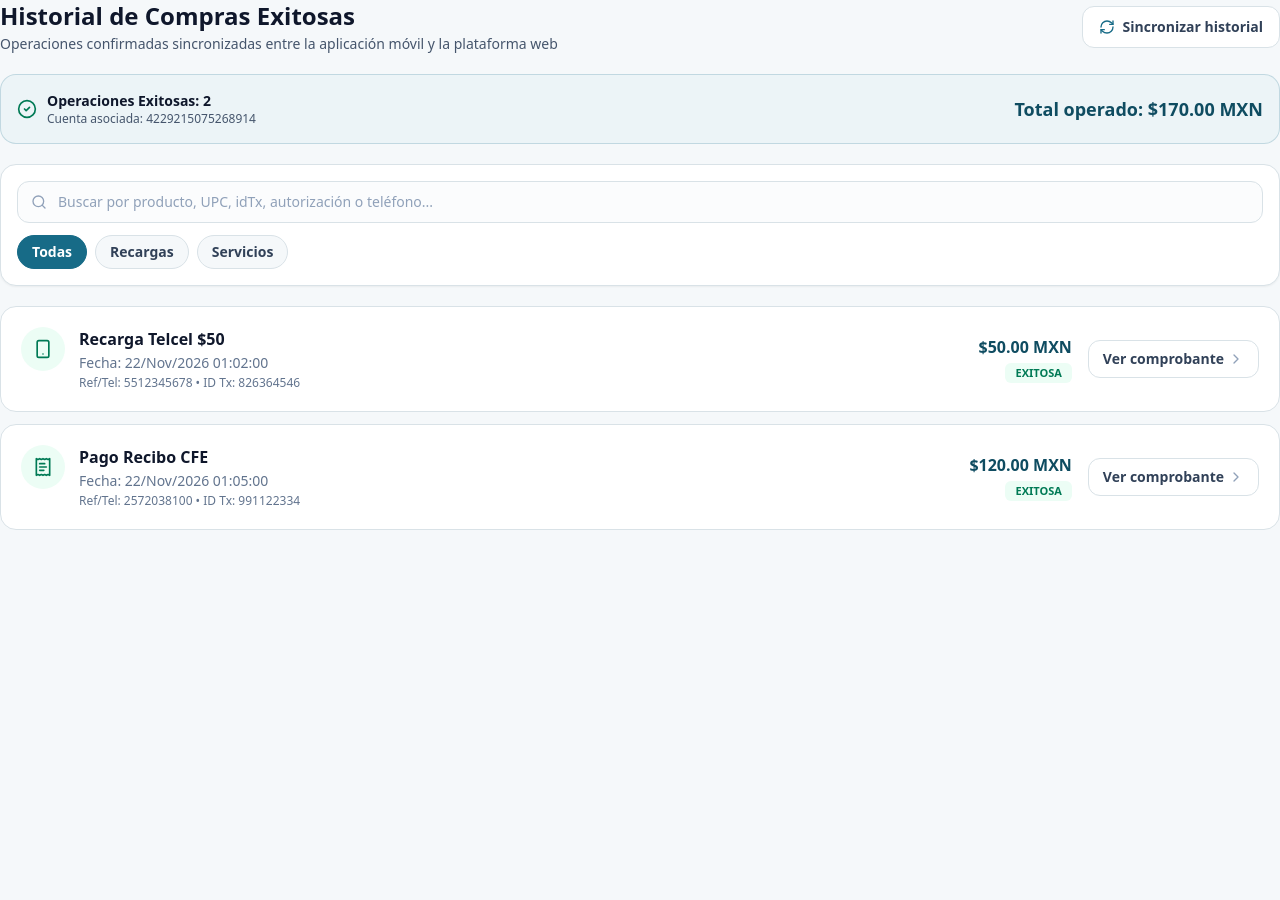
Test case: Fase 5: Historial de Compras Exitosas y Detalle por UPC › HistoryPage muestra resumen, filtra por busqueda/tipo y verifica detalle por UPC en servidor
Expected: the text "Operaciones Exitosas: 2" is shown, [47, 91, 211, 110]
Expected: the text "Total operado: $170.00 MXN" is shown, [1014, 95, 1263, 123]
Click the button "Servicios": (243, 252) [197, 235, 288, 269]
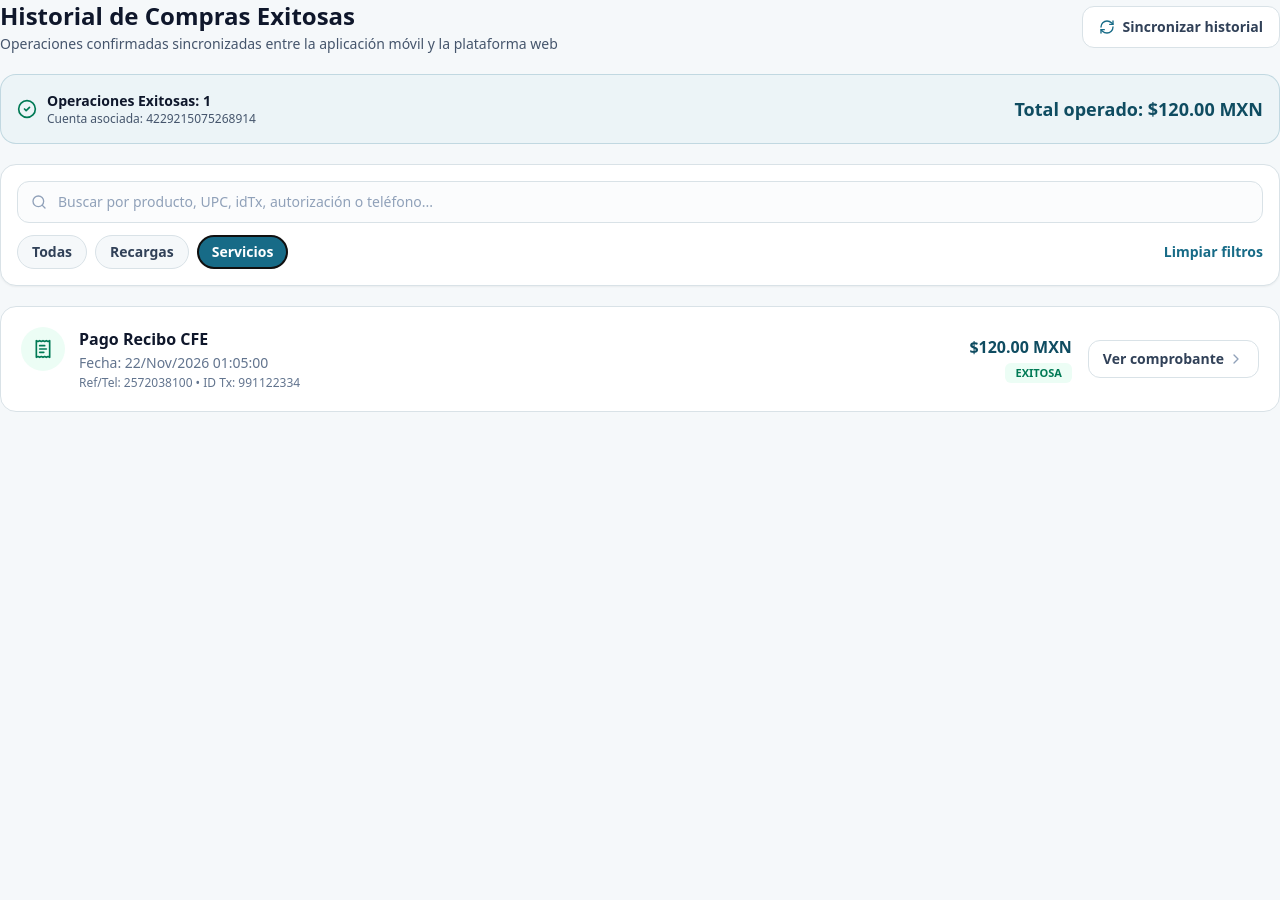
Expected: the heading "Recarga Telcel $50" is gone
Expected: the text "Operaciones Exitosas: 1" is shown, [47, 91, 211, 110]
Expected: the text "Total operado: $120.00 MXN" is shown, [1014, 95, 1263, 123]
Click the button "Todas": (52, 252) [17, 235, 87, 269]
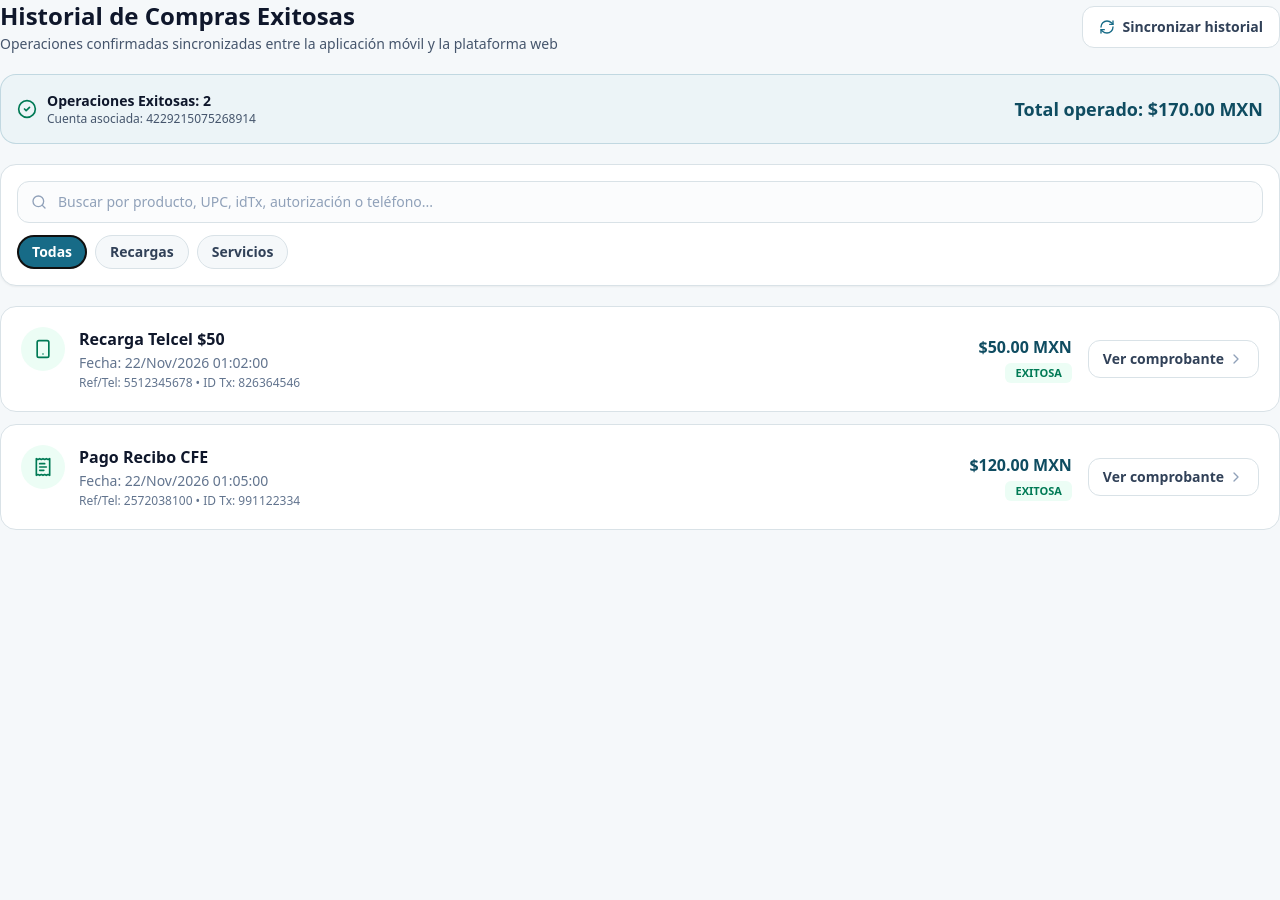
In the field named "Buscar en historial": (640, 202) [17, 181, 1263, 223], type "826364546"
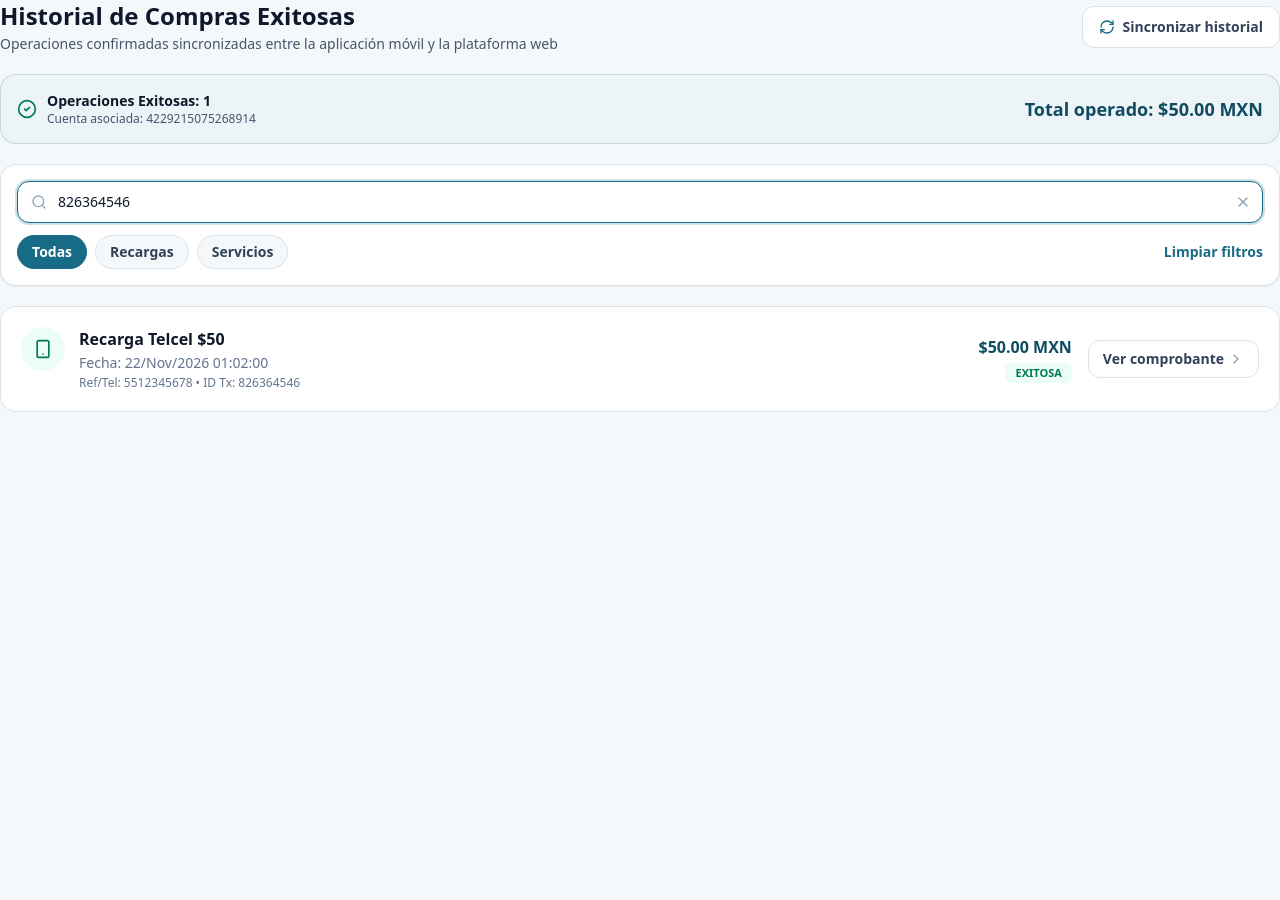
Expected: the heading "Recarga Telcel $50" is shown, [79, 328, 225, 350]
Expected: the heading "Pago Recibo CFE" is gone
Click the button "Ver comprobante": (1173, 359) [1088, 340, 1259, 378]
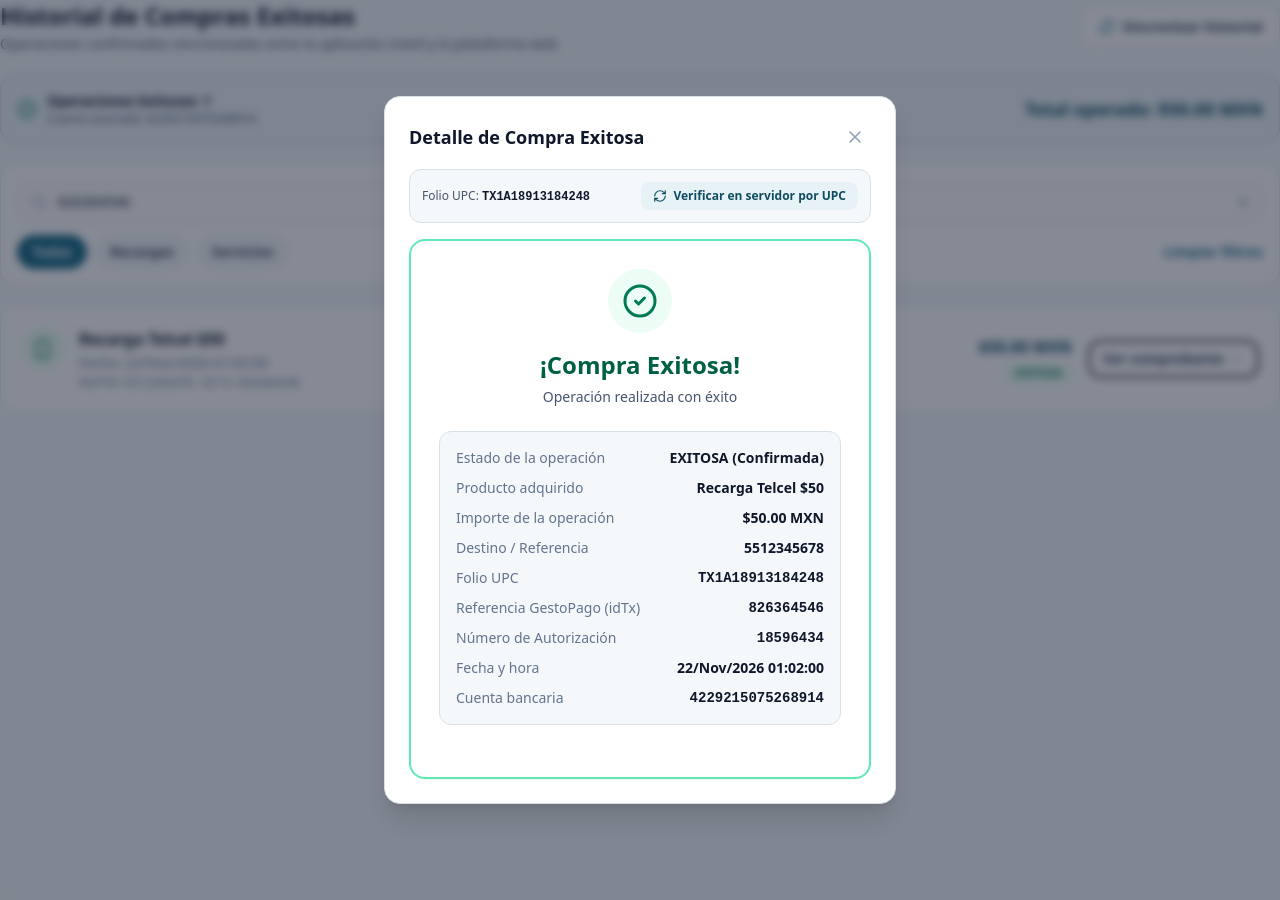
Expected: the heading "Detalle de Compra Exitosa" is shown, [409, 123, 644, 151]
Expected: the text "18596434" is shown, [757, 628, 824, 648]
Click the button "Verificar en servidor por UPC": (750, 196) [641, 182, 858, 210]
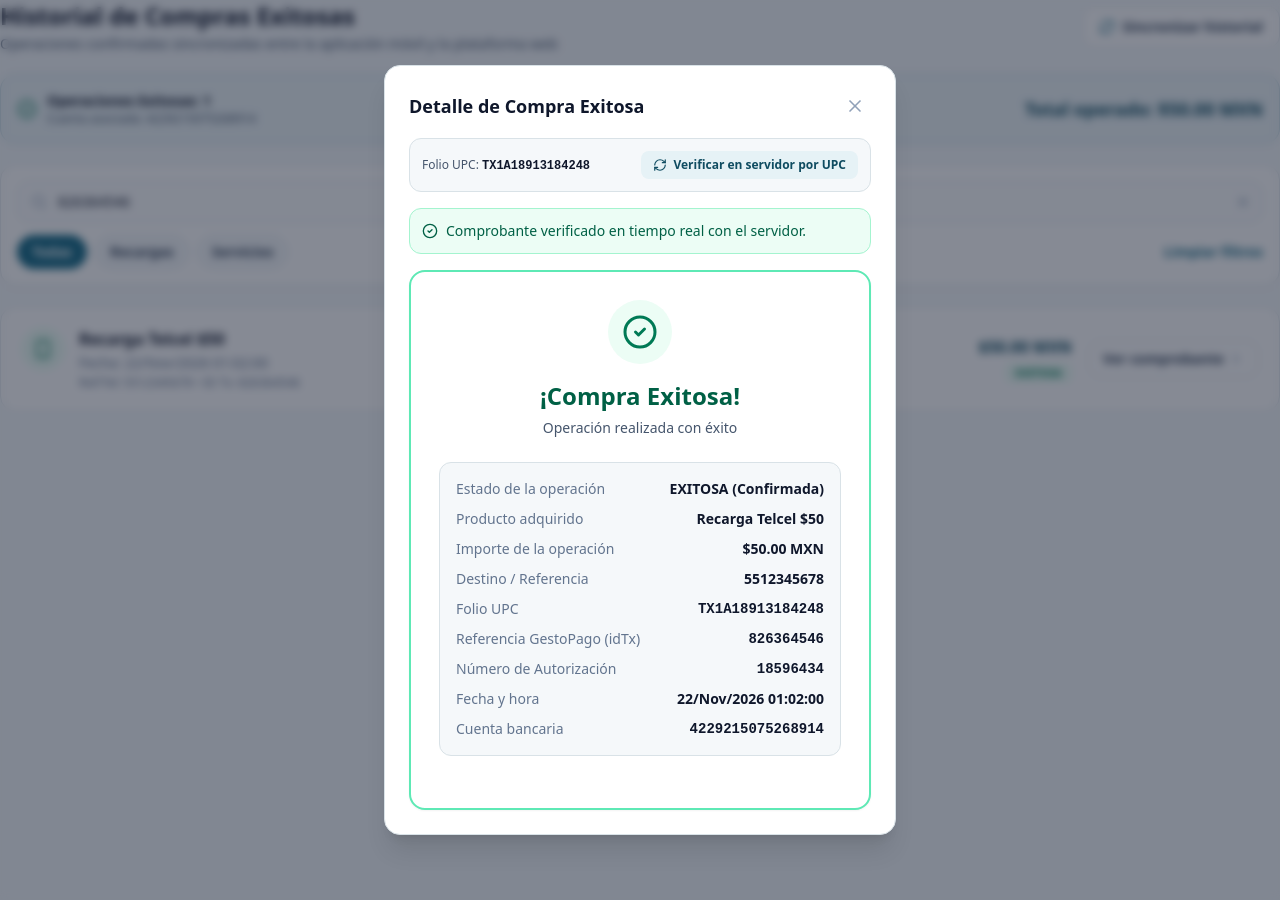
Expected: the text "Comprobante verificado en tiempo real con el servidor." is shown, [446, 221, 806, 241]
